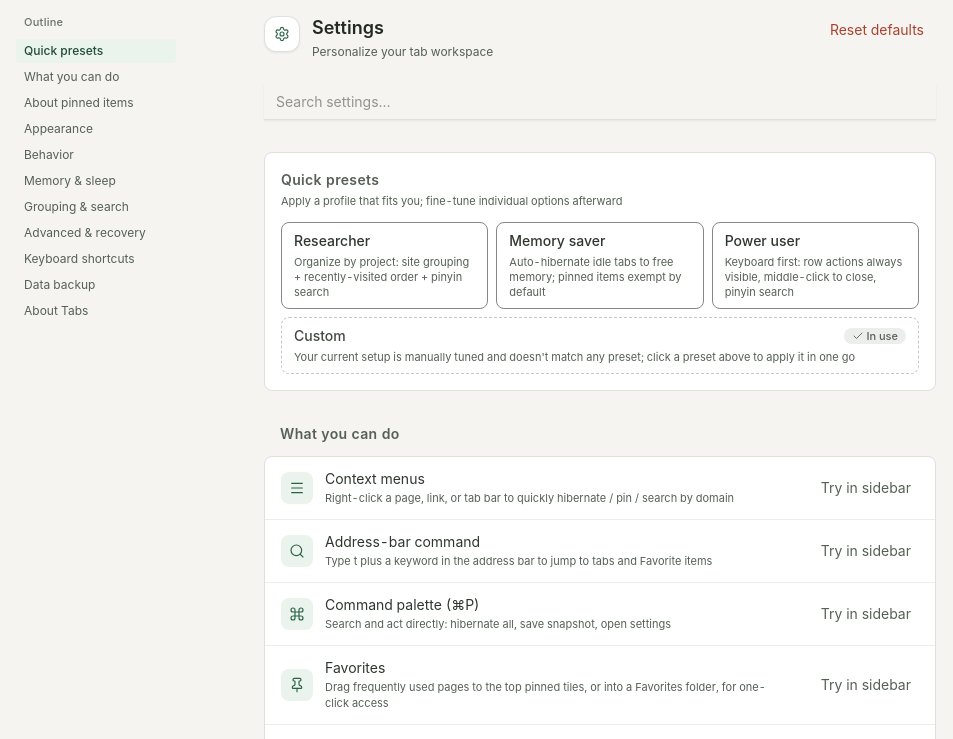
Scenario: SettingsPage（渲染冒烟） › 设置搜索只显示匹配项，无匹配时隐藏设置并展示空态
The width and height of the screenshot is (953, 739).
In the search field with placeholder "Search settings…": (600, 102) [264, 84, 936, 120], type "Search across all windows"
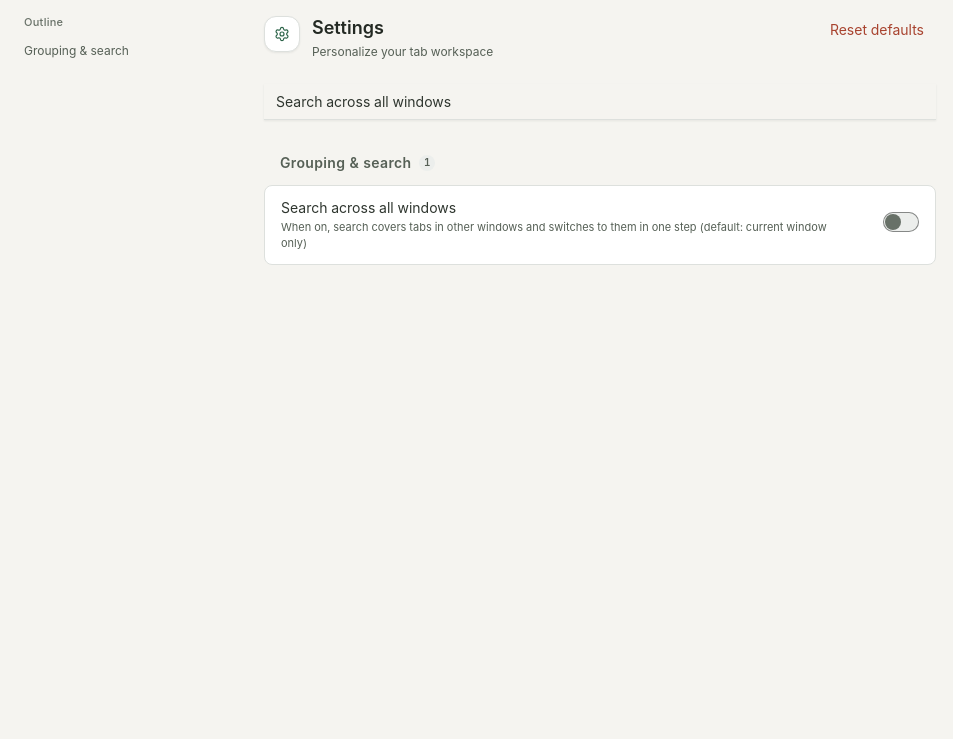
Expected: the text "Search across all windows" is shown, [281, 199, 456, 216]
Replace the text in the search field with placeholder "Search settings…" with "绝不可能命中的设置": (600, 102) [264, 84, 936, 120]
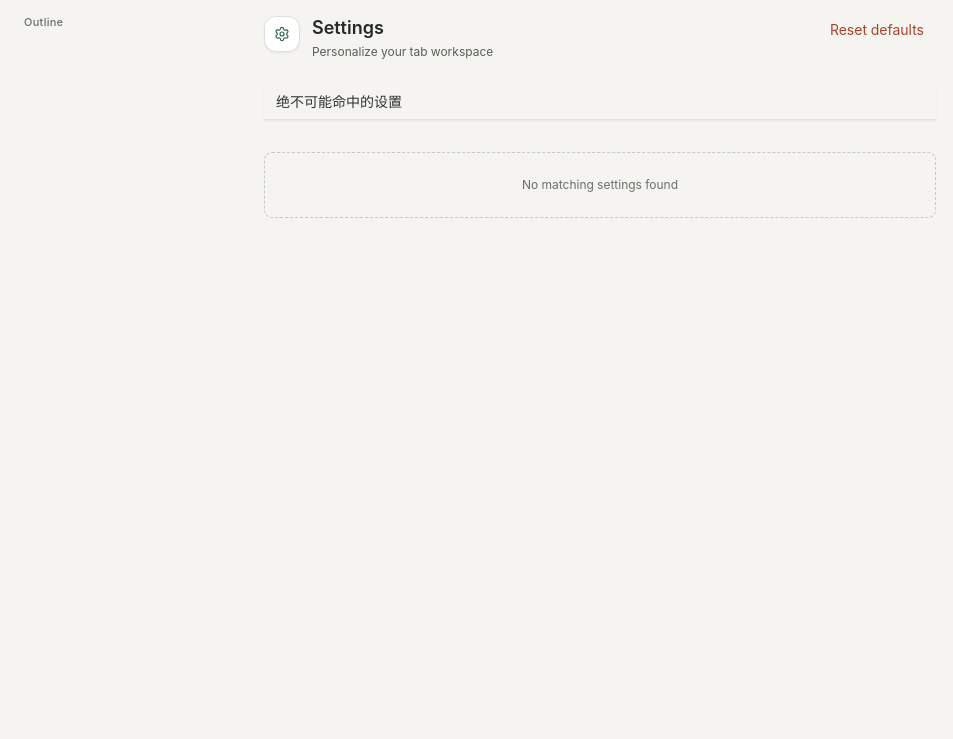
Result: the text "No matching settings found" is shown at [264, 152, 936, 218]
Result: the text "Search across all windows" is gone
Result: no links are shown
